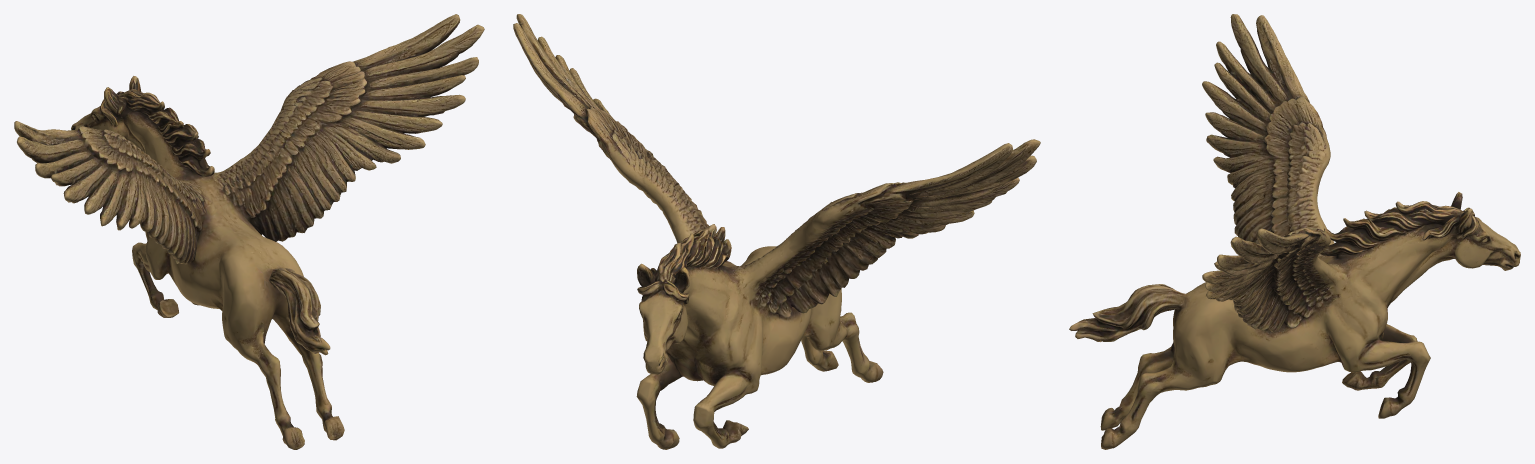
The model's file is pegase.glb.
3 renders of one model, left to right at view 1: azimuth 30°, elevation 25°; view 2: azimuth 150°, elevation 25°; view 3: azimuth 270°, elevation 25°, orthographic. The views are drawn at different scales.
Parts seen in each view (by area): view 1: tripo_node_1027deba-4fc5-41c0-90bd-09563971dca7; view 2: tripo_node_1027deba-4fc5-41c0-90bd-09563971dca7; view 3: tripo_node_1027deba-4fc5-41c0-90bd-09563971dca7.
Boxes of the visible parts, x1,y1,x2,y2 form: tripo_node_1027deba-4fc5-41c0-90bd-09563971dca7: (14, 14, 484, 449); tripo_node_1027deba-4fc5-41c0-90bd-09563971dca7: (513, 14, 1040, 449); tripo_node_1027deba-4fc5-41c0-90bd-09563971dca7: (1069, 14, 1520, 449).
Size of the model in its own units: 1 by 0.6507 by 0.8406.
1 material, 1 textured.
